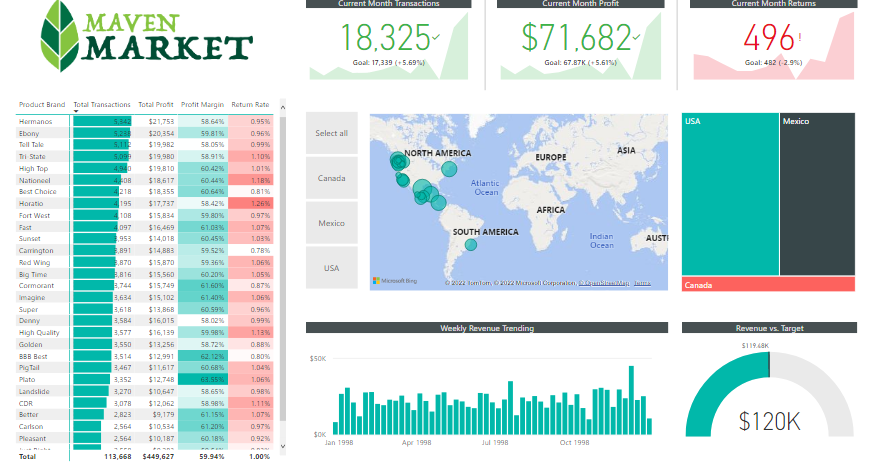

This screenshot's page, from the dashboard's own definition file:
{"tool":"powerbi","page":{"name":"Topline Performance","canvas":[1280,720],"ordinal":0},"visuals":[{"type":"image","box":[40,7.5,346.6,132.7],"z":0},{"type":"pivotTable","fields":{"Values":["Transaction_Data.Total Transactions","Transaction_Data.Total Profit","Transaction_Data.Profit Margin","Return_Data.Return Rate"],"Rows":["Products.product_brand"]},"box":[20.6,161.3,401.5,536],"z":1000},{"type":"kpi","title":"Current Month Transactions","fields":{"TrendLine":["Calendar.Start of Month"],"Goal":["Transaction_Data.Last Month Transactions"],"Indicator":["Transaction_Data.Total Transactions"]},"box":[445.9,19,240.2,124.7],"z":2000},{"type":"kpi","title":"Current Month Profit","fields":{"TrendLine":["Calendar.Start of Month"],"Goal":["Transaction_Data.Last Month Profit"],"Indicator":["Transaction_Data.Total Profit"]},"box":[723.3,19,242.5,124.7],"z":3000},{"type":"kpi","title":"Current Month Returns","fields":{"TrendLine":["Calendar.Start of Month"],"Goal":["Return_Data.Last Month Returns"],"Indicator":["Return_Data.Total Returns"]},"box":[1003,19,242.5,124.7],"z":4000},{"type":"map","fields":{"Category":["Stores.store_city"],"Size":["Transaction_Data.Total Transactions"]},"box":[532.8,182.5,442.7,266.5],"z":5000},{"type":"slicer","fields":{"Values":["Stores.store_country"]},"box":[420.5,178.9,124.7,270],"z":6000},{"type":"columnChart","title":"Weekly Revenue Trending","fields":{"Category":["Calendar.Start of Week"],"Y":["Transaction_Data.Total Revenue"]},"box":[445.9,490,525.3,192.2],"z":7000},{"type":"gauge","title":"Revenue vs. Target","fields":{"Y":["Transaction_Data.Total Revenue"],"TargetValue":["Transaction_Data.Revenue Target"]},"box":[991.1,490,254.4,171.6],"z":8000},{"type":"basicShape","box":[671.7,2.9,67.5,161.3],"z":9000},{"type":"basicShape","box":[950.3,2.9,67.5,161.3],"z":10000},{"type":"treemap","fields":{"Group":["Stores.store_country","Stores.store_state","Stores.store_city"],"Values":["Transaction_Data.Total Transactions"]},"box":[985.8,181.4,261.9,270],"z":11000}]}

Visuals, with their boxes on the page's 1280x720 design canvas (x1, y1, x2, y2). These are canvas units, not pixel positions in the 881x472 screenshot, which may show the page scaled, cropped or inside an application window:
image: Rect(40, 8, 387, 140)
pivotTable - Transaction_Data.Total Transactions x Transaction_Data.Total Profit: Rect(21, 161, 422, 697)
"Current Month Transactions" kpi: Rect(446, 19, 686, 144)
"Current Month Profit" kpi: Rect(723, 19, 966, 144)
"Current Month Returns" kpi: Rect(1003, 19, 1246, 144)
map - Stores.store_city x Transaction_Data.Total Transactions: Rect(533, 182, 976, 449)
slicer - Stores.store_country: Rect(420, 179, 545, 449)
"Weekly Revenue Trending" columnChart: Rect(446, 490, 971, 682)
"Revenue vs. Target" gauge: Rect(991, 490, 1246, 662)
basicShape: Rect(672, 3, 739, 164)
basicShape: Rect(950, 3, 1018, 164)
treemap - Stores.store_country x Stores.store_state: Rect(986, 181, 1248, 451)
